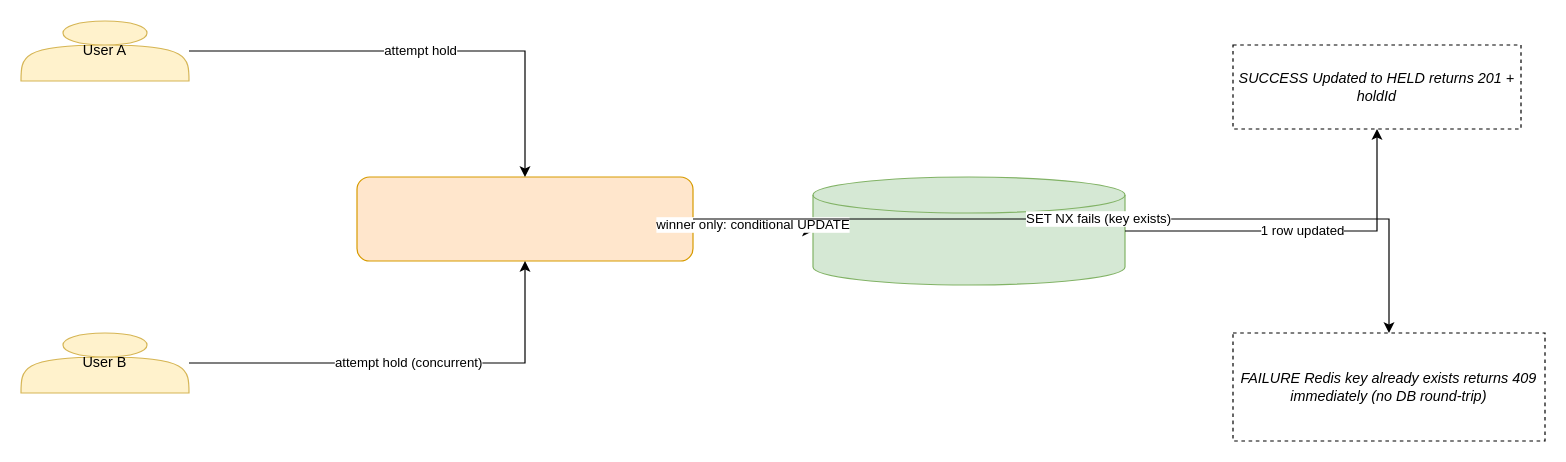
Image size: 1566x462. Some labels were removed from this diagram. Here are the shapes that lost their labels. From the top down, the centre of each, then its label:
At (524,218): "Redis SET hold:show123:A12 NX EX 300".
At (968,230): "Postgres show_seat_inventory (show123, seatA12) status='AVAILABLE'".
